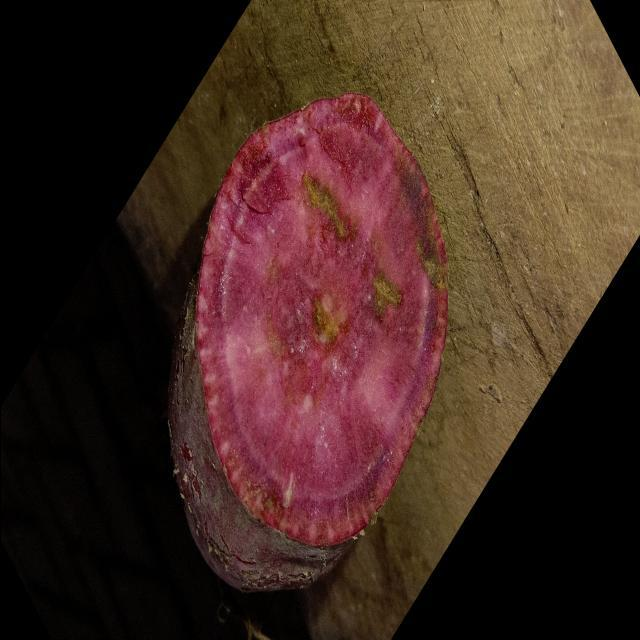Sick Sweet Potato_Tuber Rot: (196, 93, 446, 547)
